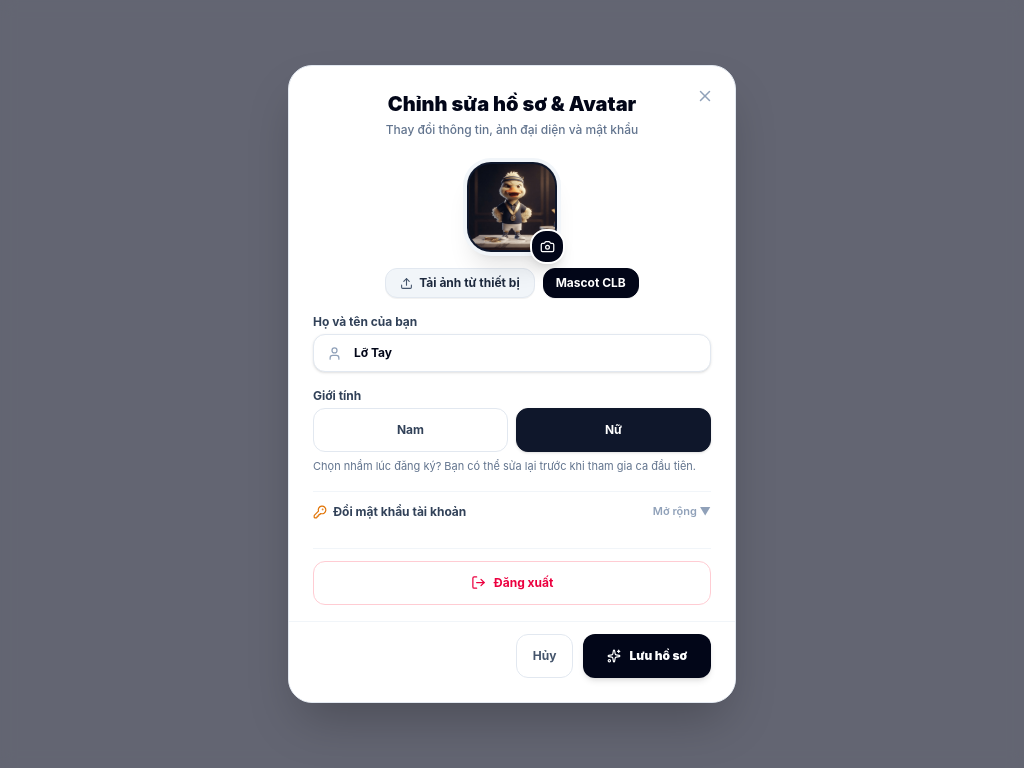
ProfileModal - tự sửa giới tính › hiển thị lỗi từ server (ví dụ vừa bị khóa giữa chừng)
Click the radio button labelled "Nam": (410, 430) 313,408 -> 508,452
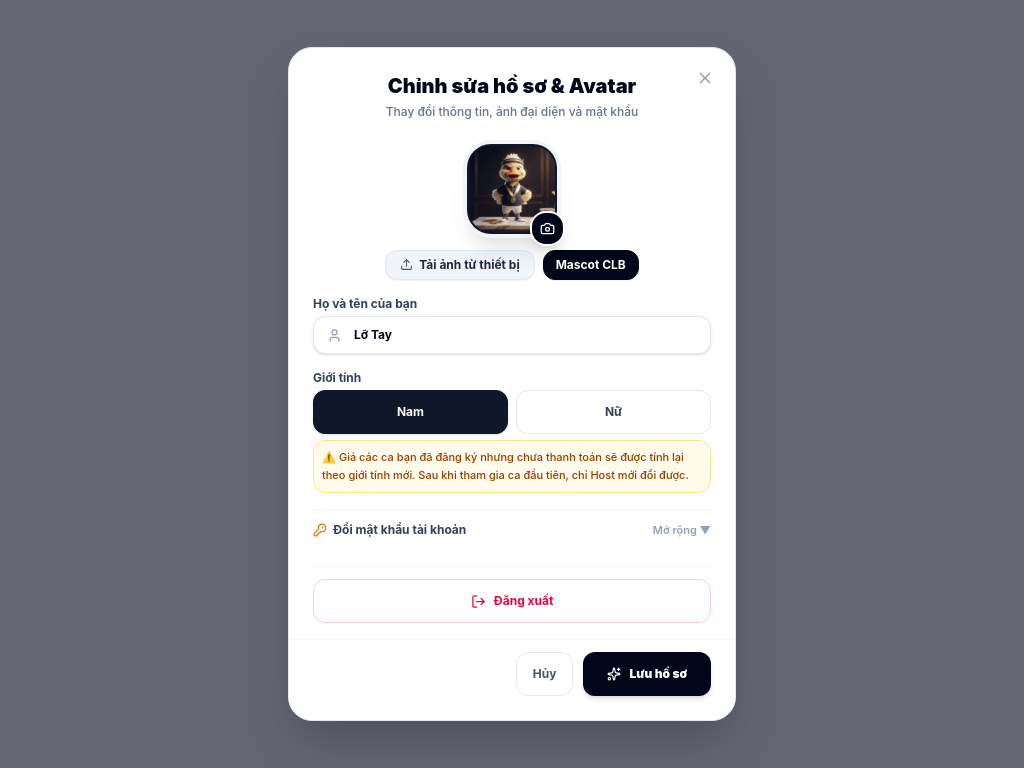
Click the button "Lưu hồ sơ": (647, 674) 584,652 -> 711,696
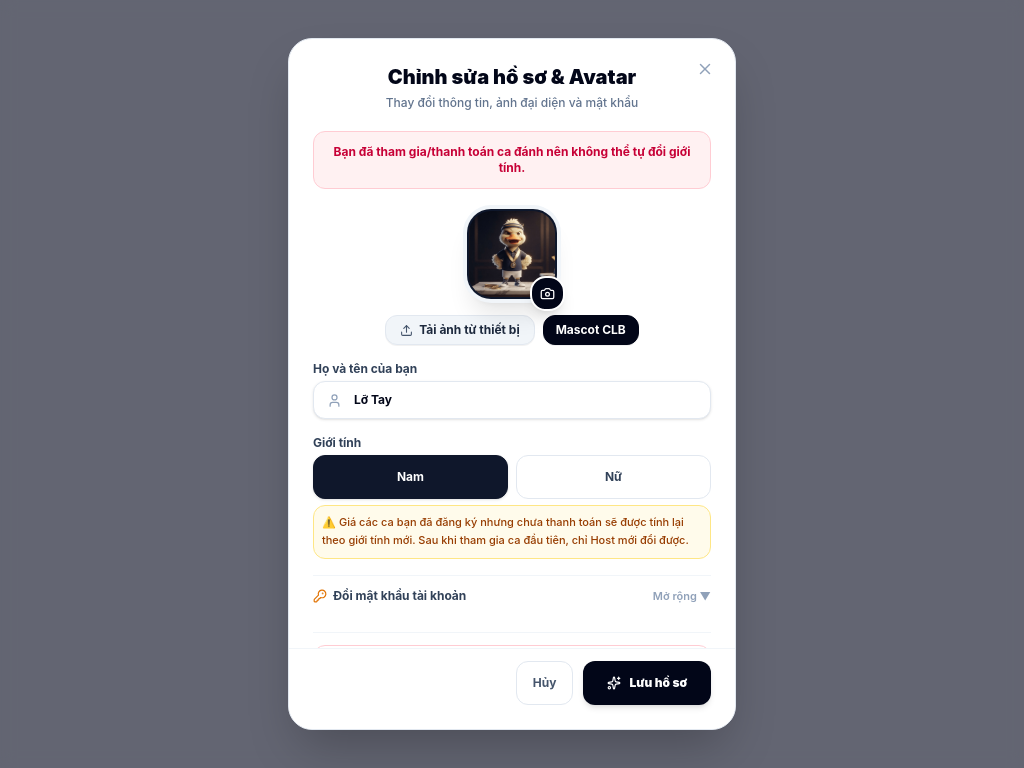
Expected: the text "không thể tự đổi giới tính" is shown, 334,144 -> 690,175
